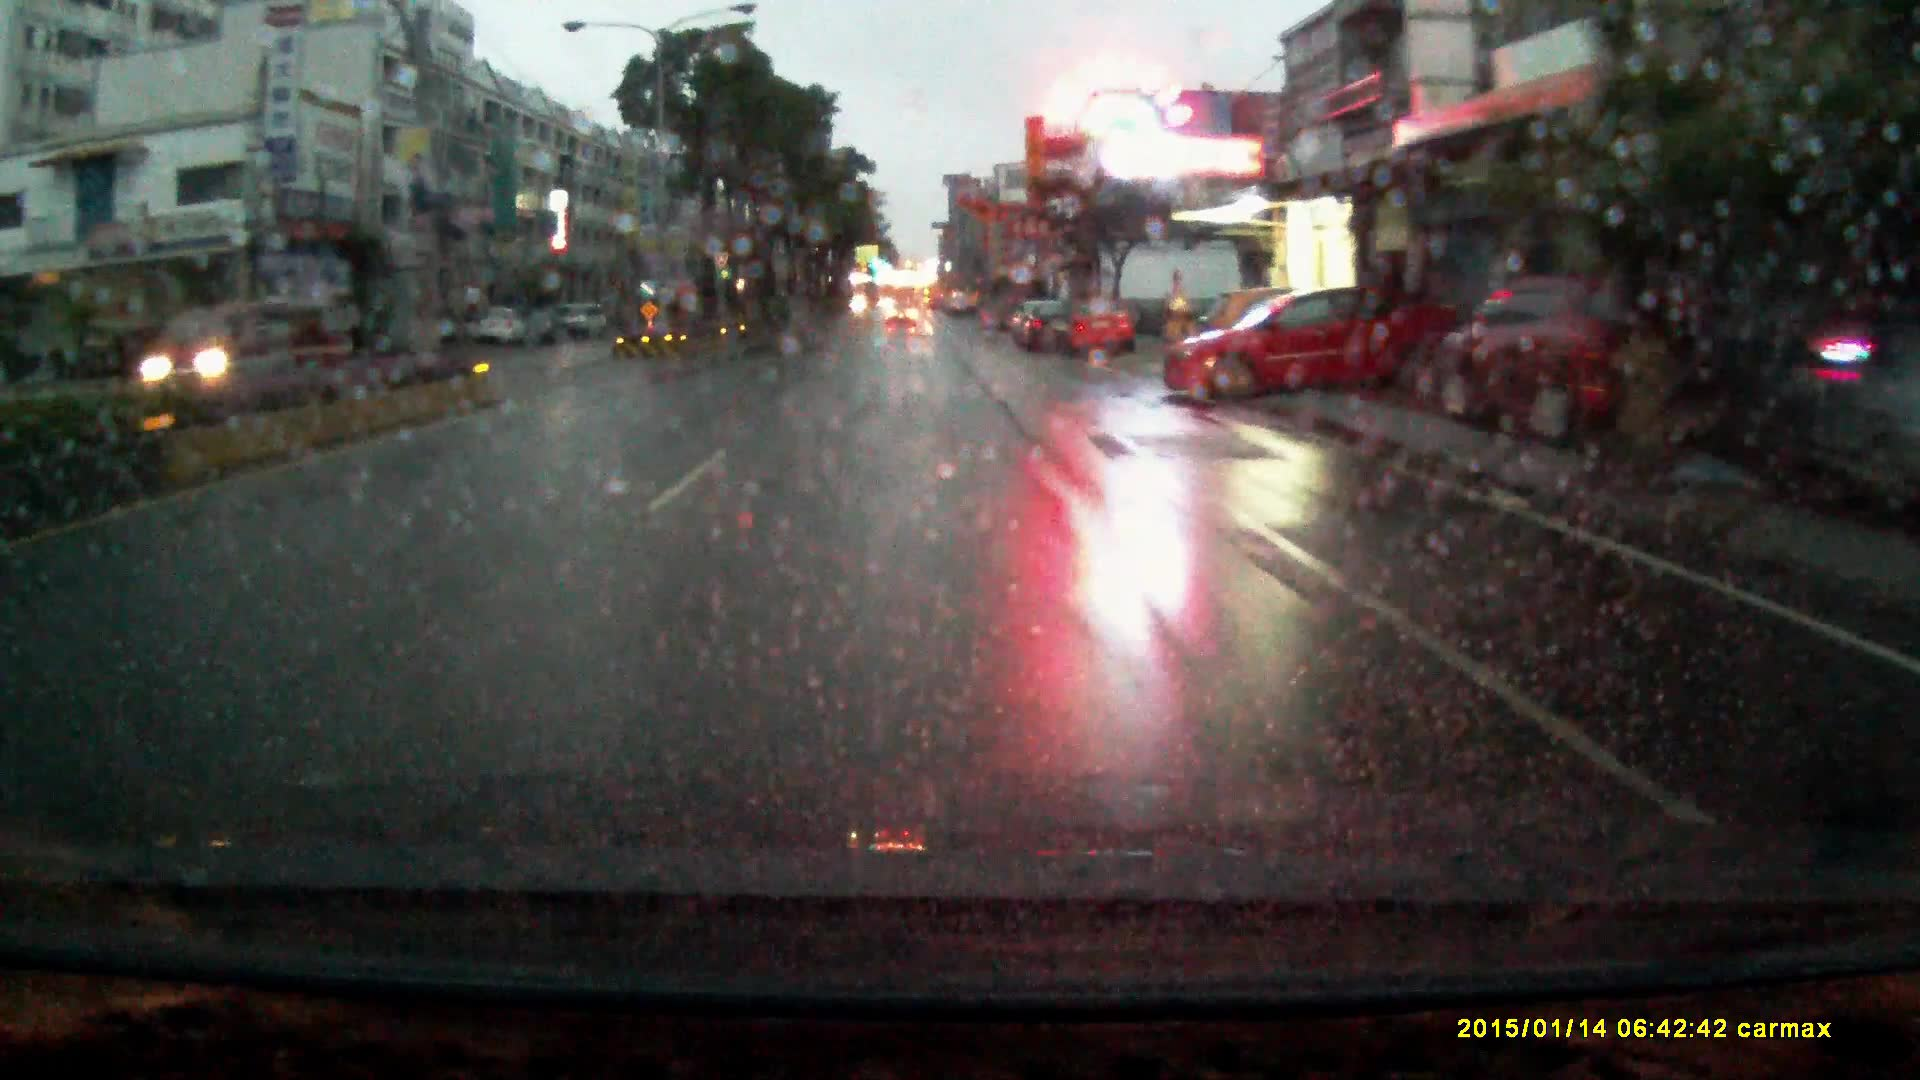vehicle: (1431, 276, 1731, 450), (1160, 291, 1462, 407), (138, 301, 305, 386), (1056, 303, 1141, 360), (1013, 303, 1077, 355), (555, 301, 612, 340), (476, 306, 526, 349), (887, 301, 918, 328)
